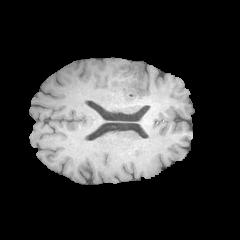glioma: (104, 61, 150, 102)
